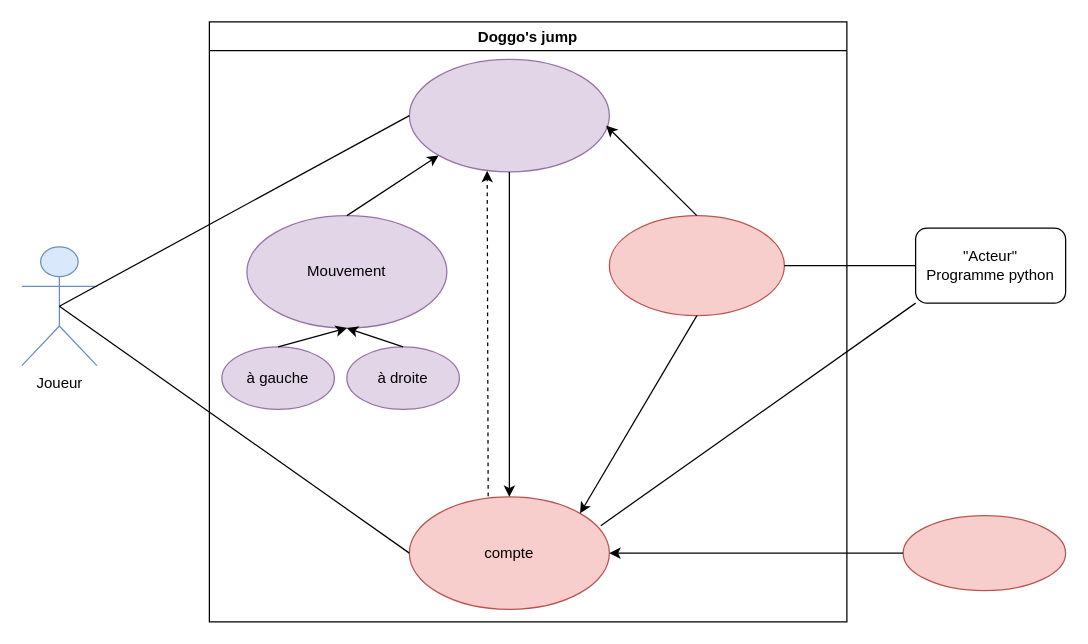
The diagram is 1088 pixels wide and 644 high, and some of its shapes have lost their labels. Each missing label, with the box of its shape:
Classement: (902, 514, 1066, 591)
Jeu: (408, 58, 609, 172)
Score: (608, 214, 784, 316)
